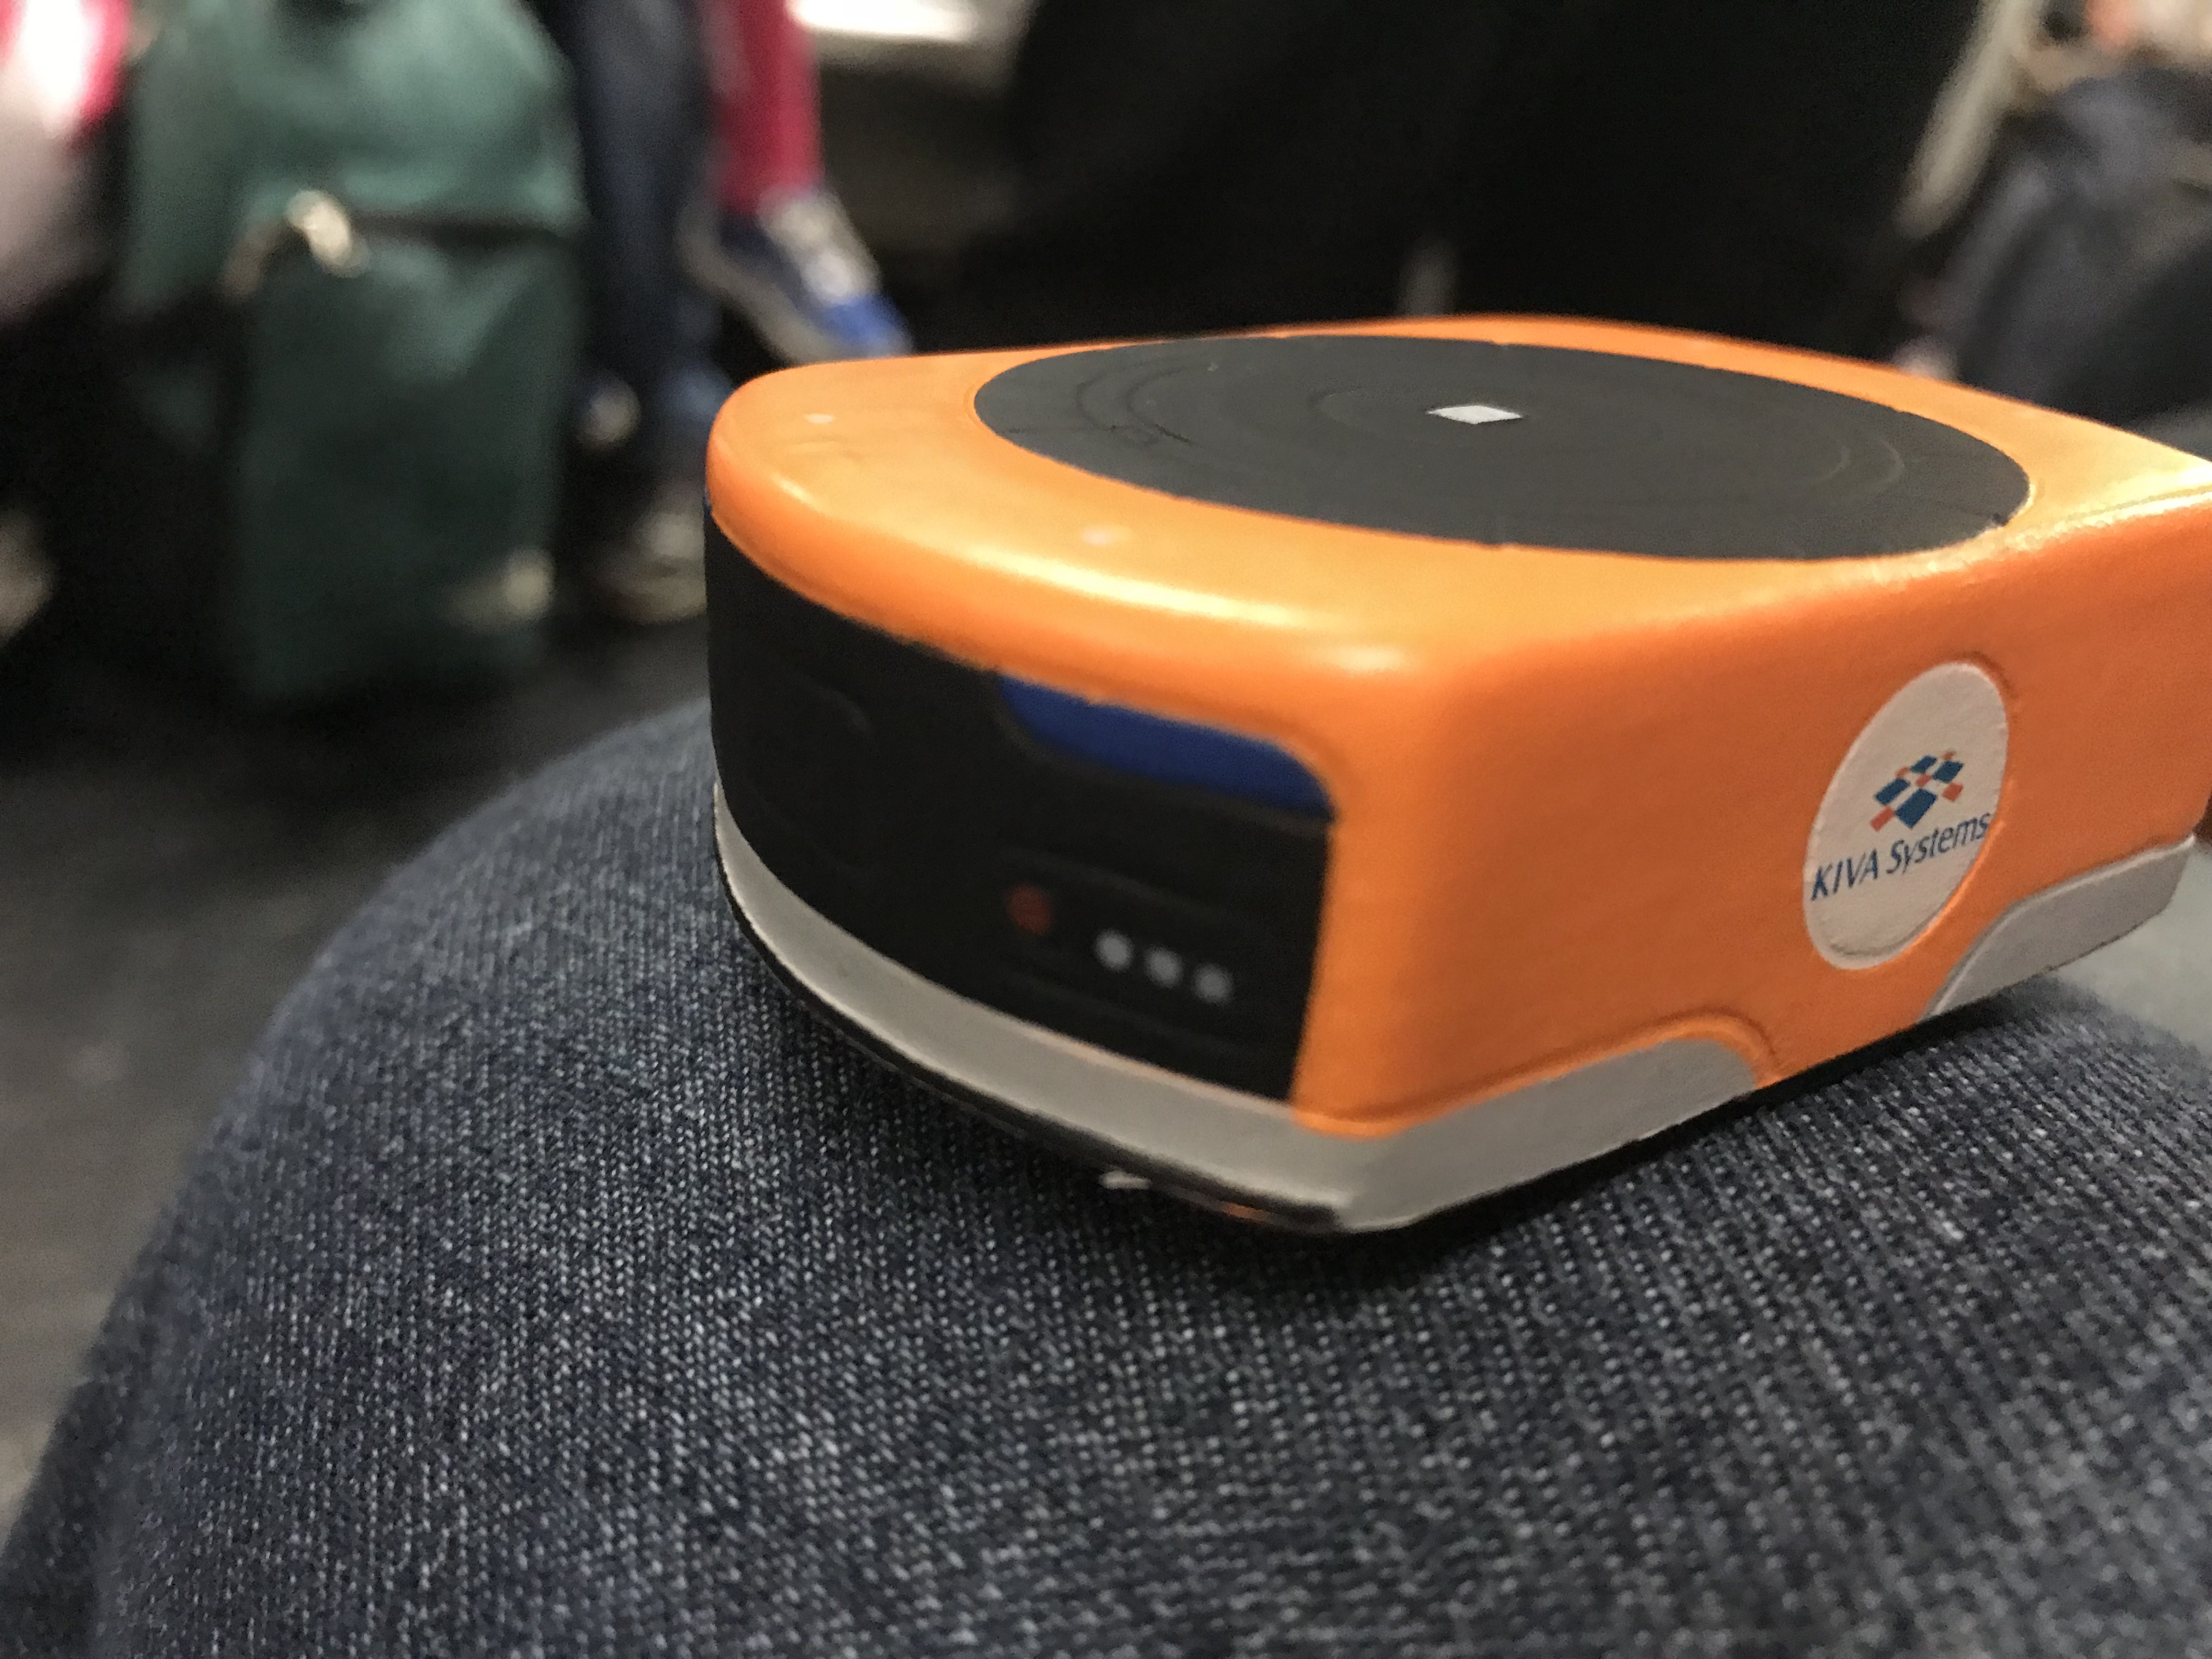amazon_bot: (681, 298, 2212, 1249)
